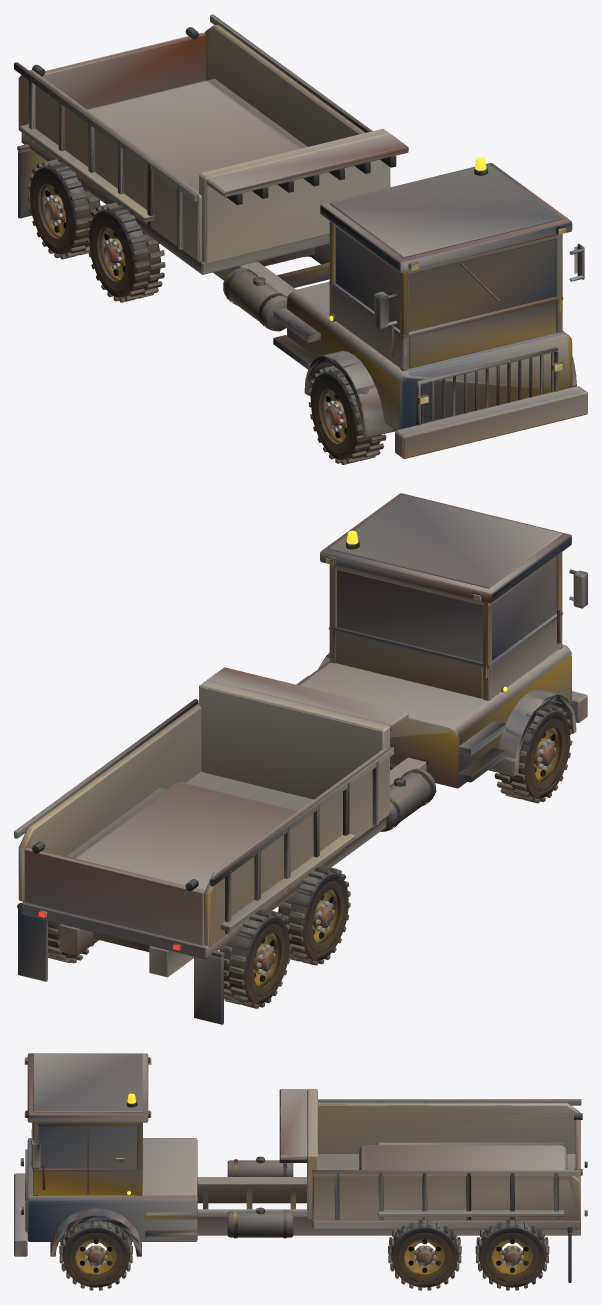
File: DumpTruck.fbx
3 views of the same model, one above another, from view 1: azimuth 30°, elevation 25°; view 2: azimuth 150°, elevation 25°; view 3: azimuth 270°, elevation 25° (orthographic). The views are drawn at different scales.
Visible parts, largest first — view 1: Body, Tool, Glass, Body__L1, Tool__L1, Wheel_mid_R, Wheel_rear_R, Wheel_front_R, Wheel_mid_R__L1, Wheel_rear_R__L1, Wheel_front_R__L1, Wheel_mid_R__L2 (+4 smaller); view 2: Tool, Body, Glass, Tool__L1, Body__L1, Wheel_rear_R, Wheel_mid_R, Wheel_front_R, Wheel_rear_R__L1, Wheel_mid_R__L1, Wheel_front_R__L1, Wheel_mid_R__L2 (+4 smaller); view 3: Tool, Body, Tool__L1, Glass, Body__L1, Wheel_mid_L, Wheel_front_L, Wheel_rear_L, Wheel_front_L__L1, Wheel_mid_L__L1, Wheel_rear_L__L1, Wheel_front_L__L2 (+4 smaller).
Part boxes in pixels (x1,y1,x2,y2): Body: [17, 78, 587, 458]; Tool: [14, 14, 408, 274]; Glass: [335, 227, 555, 332]; Body__L1: [19, 132, 587, 458]; Tool__L1: [29, 24, 408, 274]; Wheel_mid_R: [87, 202, 165, 302]; Wheel_rear_R: [28, 159, 100, 259]; Wheel_front_R: [308, 365, 386, 464]; Wheel_mid_R__L1: [89, 208, 164, 296]; Wheel_rear_R__L1: [30, 162, 99, 253]; Wheel_front_R__L1: [311, 368, 384, 459]; Wheel_mid_R__L2: [87, 207, 164, 297]; Tool: [14, 667, 408, 958]; Body: [17, 493, 587, 1024]; Glass: [337, 557, 556, 662]; Tool__L1: [14, 676, 408, 959]; Body__L1: [18, 493, 587, 1024]; Wheel_rear_R: [219, 908, 291, 1008]; Wheel_mid_R: [278, 865, 350, 965]; Wheel_front_R: [494, 704, 572, 803]; Wheel_rear_R__L1: [224, 914, 291, 1007]; Wheel_mid_R__L1: [281, 870, 349, 965]; Wheel_front_R__L1: [498, 710, 570, 800]; Wheel_mid_R__L2: [278, 869, 348, 963]; Tool: [279, 1089, 582, 1229]; Body: [14, 1053, 586, 1282]; Tool__L1: [279, 1089, 582, 1229]; Glass: [38, 1125, 137, 1168]; Body__L1: [14, 1054, 586, 1256]; Wheel_mid_L: [388, 1220, 461, 1290]; Wheel_front_L: [59, 1220, 132, 1290]; Wheel_rear_L: [475, 1220, 549, 1290]; Wheel_front_L__L1: [61, 1220, 129, 1289]; Wheel_mid_L__L1: [390, 1222, 460, 1287]; Wheel_rear_L__L1: [476, 1222, 548, 1286]; Wheel_front_L__L2: [60, 1220, 131, 1287].
Size of the model in its own units: 2.77 by 2.9 by 8.38.
